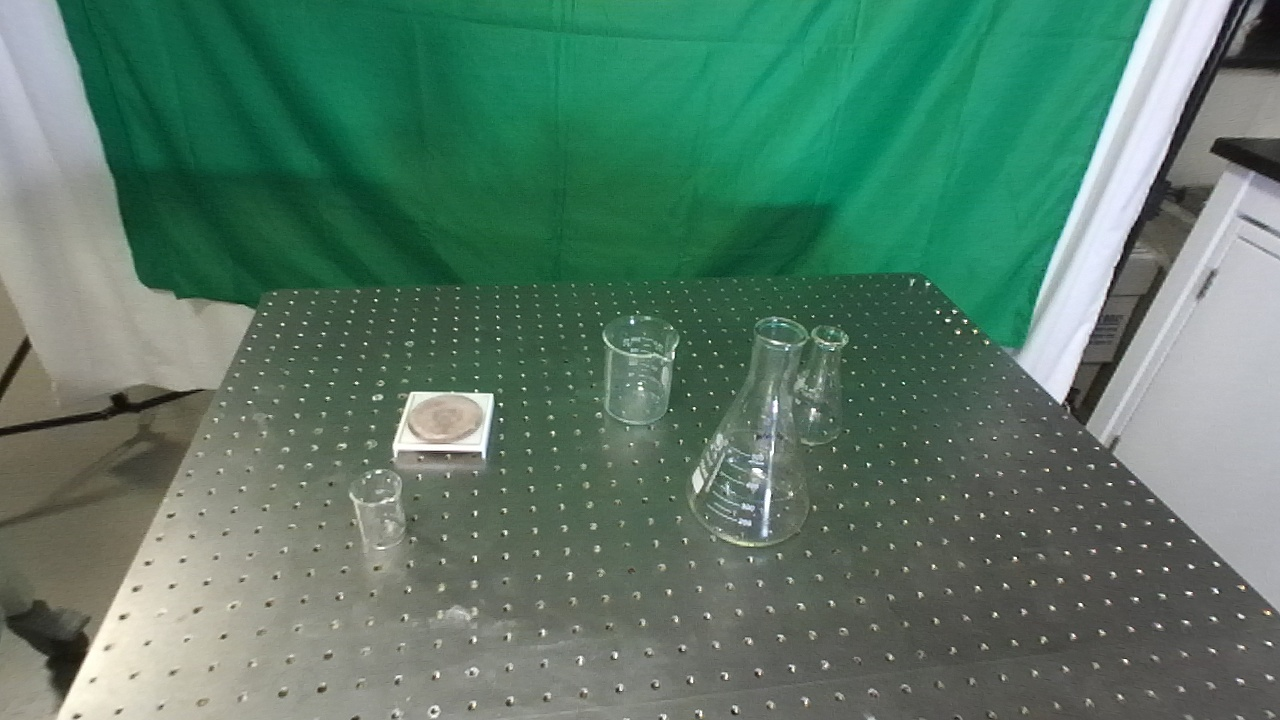glass: (682, 312, 816, 549), (601, 313, 680, 429), (785, 324, 848, 450), (346, 468, 408, 554)
plate: (390, 389, 503, 463)
